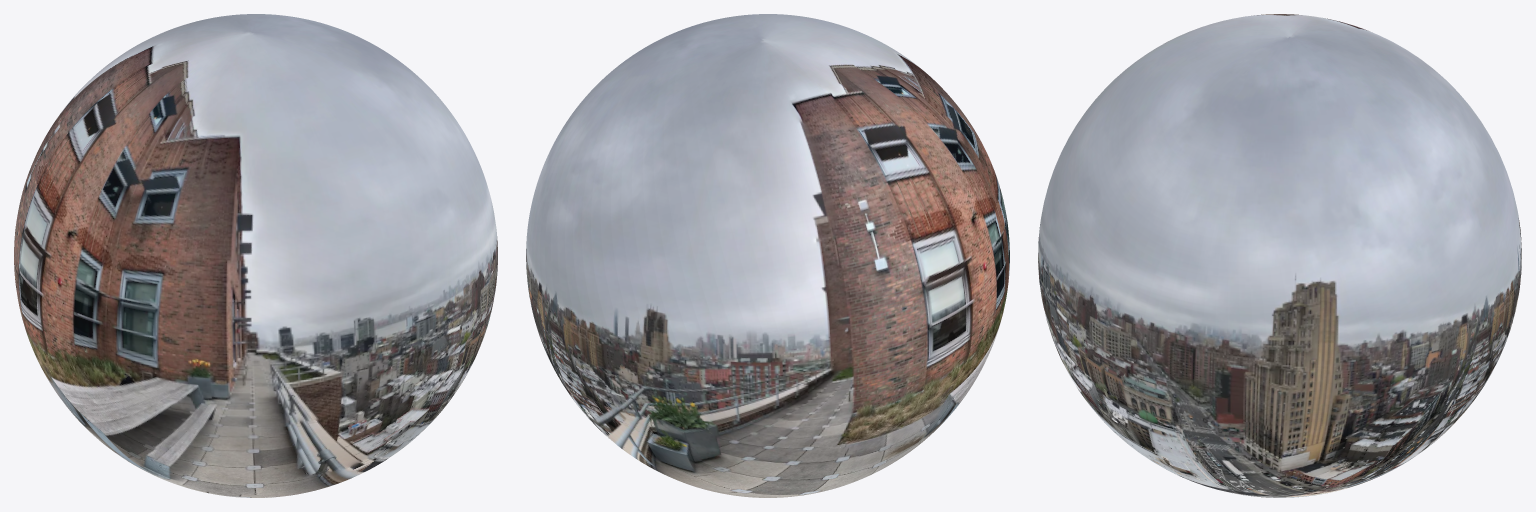
Rendered from sf-google-nyc-office-views-360-beb1ae.glb.
3 views of the same model, side by side, from view 1: azimuth 30°, elevation 25°; view 2: azimuth 150°, elevation 25°; view 3: azimuth 270°, elevation 25° (orthographic).
Parts seen in each view (by area): view 1: Sphere_0; view 2: Sphere_0; view 3: Sphere_0.
Boxes of the visible parts, bbox=[...] form: Sphere_0: bbox=[14, 14, 497, 497]; Sphere_0: bbox=[526, 14, 1009, 497]; Sphere_0: bbox=[1038, 14, 1521, 497].
Size of the model in its own units: 4.07 by 4.07 by 4.07.
1 material, 1 textured.
